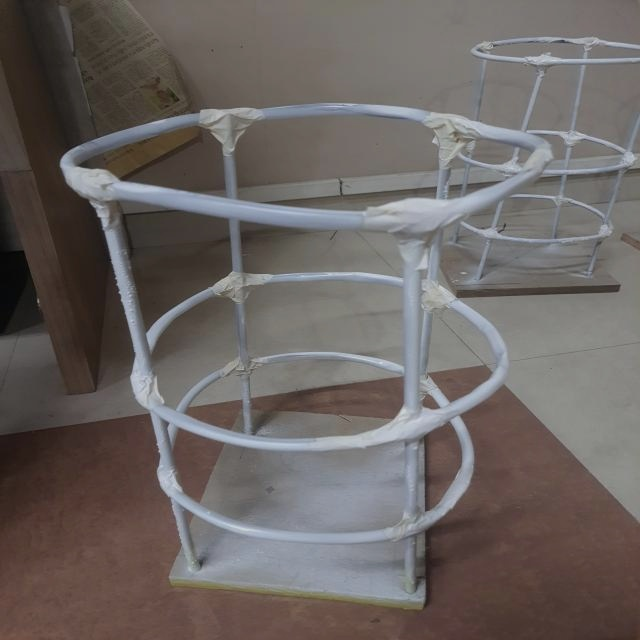silo: (52, 103, 489, 609), (451, 41, 632, 295)
